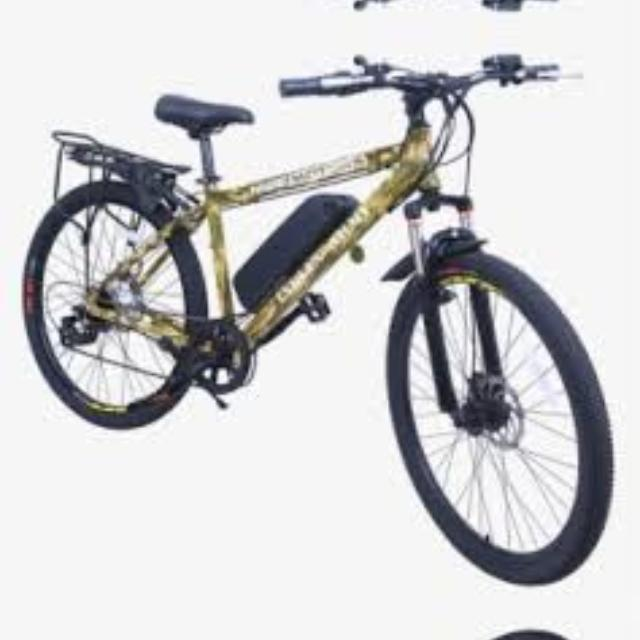obstacle: (16, 36, 626, 600), (16, 0, 626, 28), (16, 614, 626, 640)
